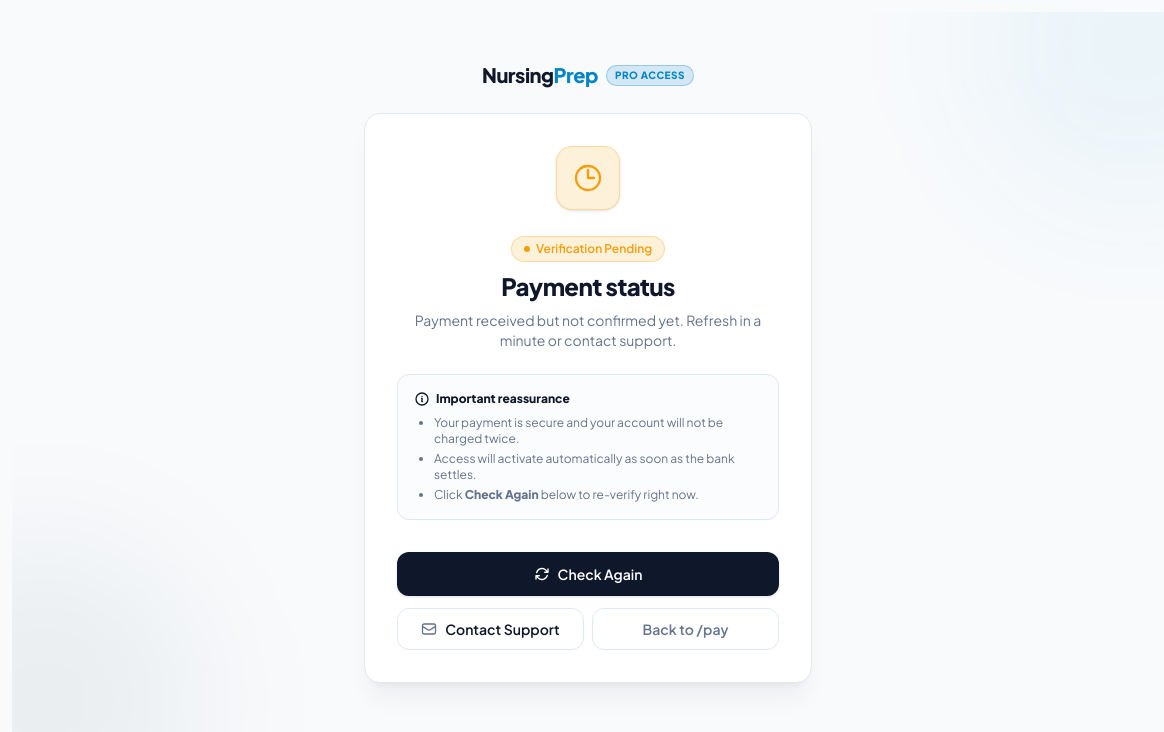
Test: PayPage & PayReturnPage › /pay/return shows timeout message and Back to /pay button after 60 seconds of no change
The width and height of the screenshot is (1164, 732).
Expected: the text "Payment received but not confirmed yet. Refresh in a minute or contact support." is shown, [397,310,779,350]
// Click Back to /pay
Step 1. Click the button "Back to /pay" → click(686, 629), box [592,608,779,650]
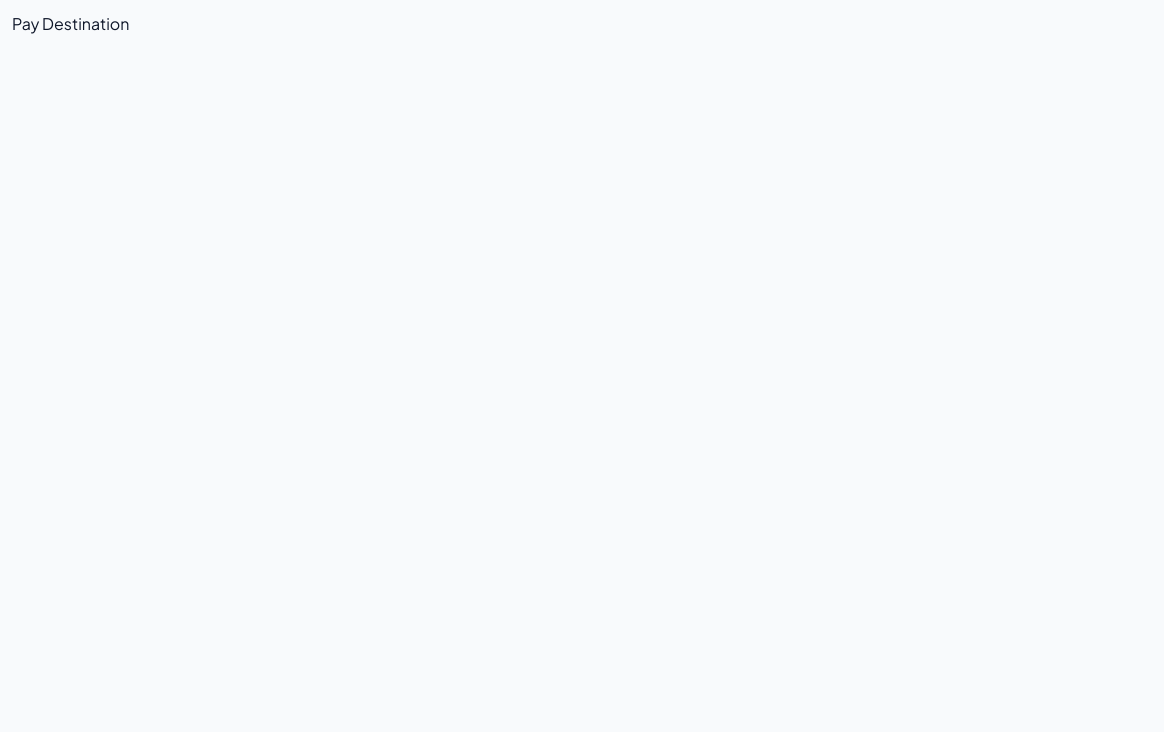
Expected: the text "Pay Destination" is shown, [12,13,130,34]
